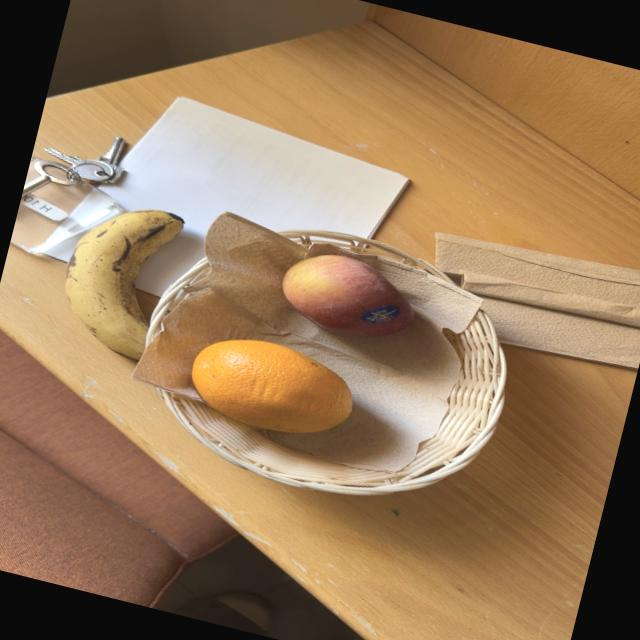apple: (283, 255, 413, 337)
bananas: (65, 210, 183, 360)
orange: (193, 340, 352, 432)
